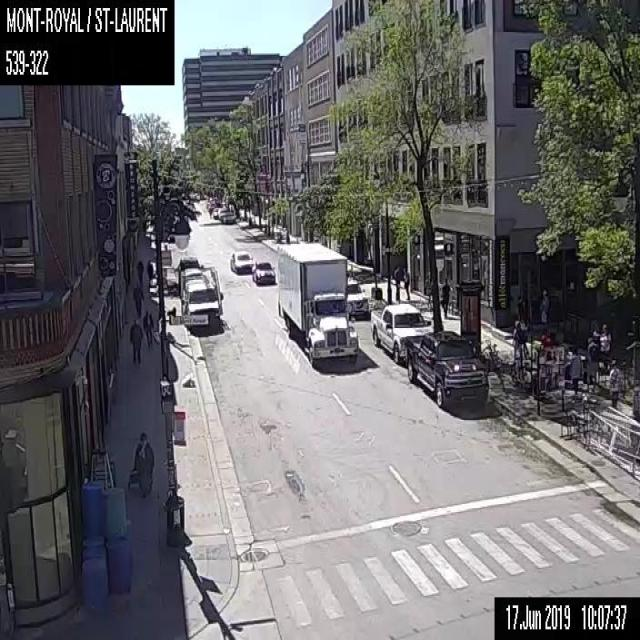pedestrian: (128, 432, 154, 497), (510, 316, 525, 376), (128, 315, 145, 364), (606, 360, 619, 411), (584, 323, 600, 362), (570, 348, 582, 397), (141, 308, 156, 347), (538, 289, 552, 328), (390, 262, 402, 302), (439, 276, 450, 317), (132, 282, 145, 315), (134, 256, 146, 288), (600, 321, 610, 359), (145, 258, 154, 290), (402, 266, 410, 302)
vehicle: (275, 240, 360, 363), (404, 329, 489, 407), (370, 300, 426, 363), (179, 268, 221, 332), (347, 277, 369, 316), (250, 259, 277, 287), (228, 248, 252, 277), (223, 210, 236, 223)
